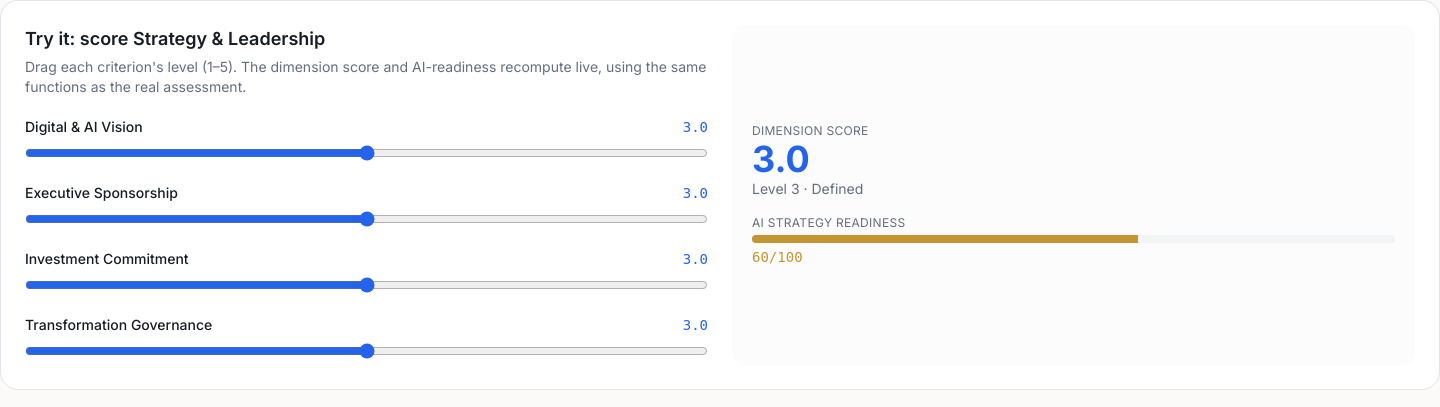
Test case: ScoreSimulator › updates the dimension score when a slider changes
The image size is (1440, 407).
Set the slider labelled "Digital & AI Vision" to "5" at (700, 153), box [25,145,708,161]
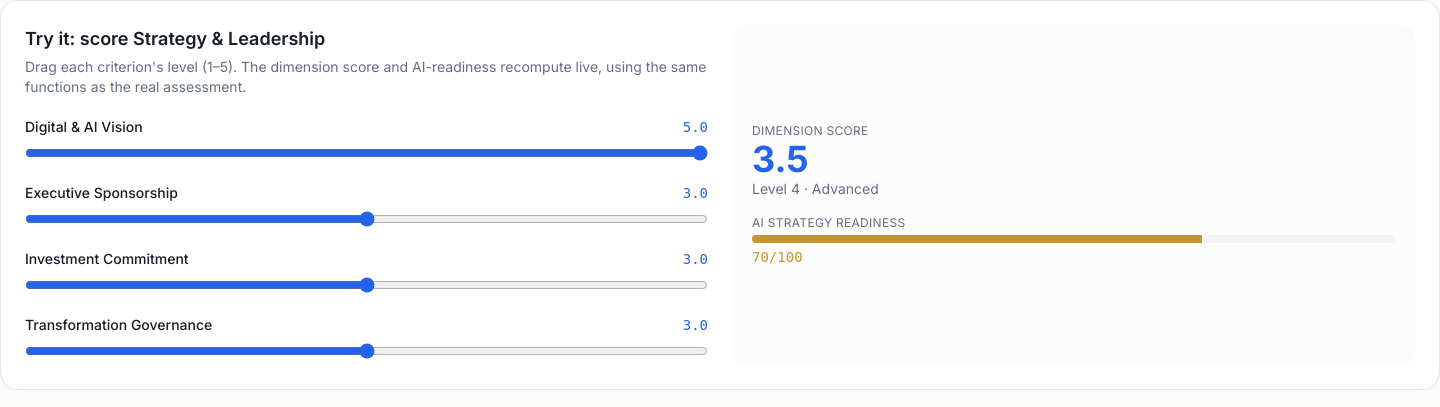
Expected: the element with test id "dim-score" no longer shows "3.0"
